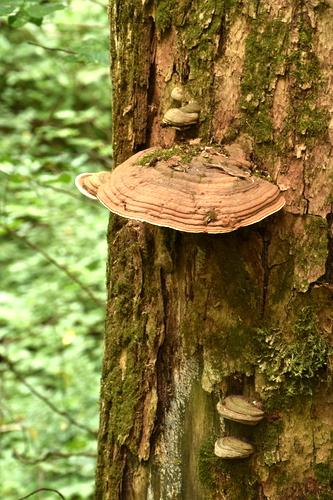Ganoderma - Fruit Body: (71, 138, 285, 248), (215, 384, 283, 426), (158, 87, 205, 126), (218, 427, 264, 464)
